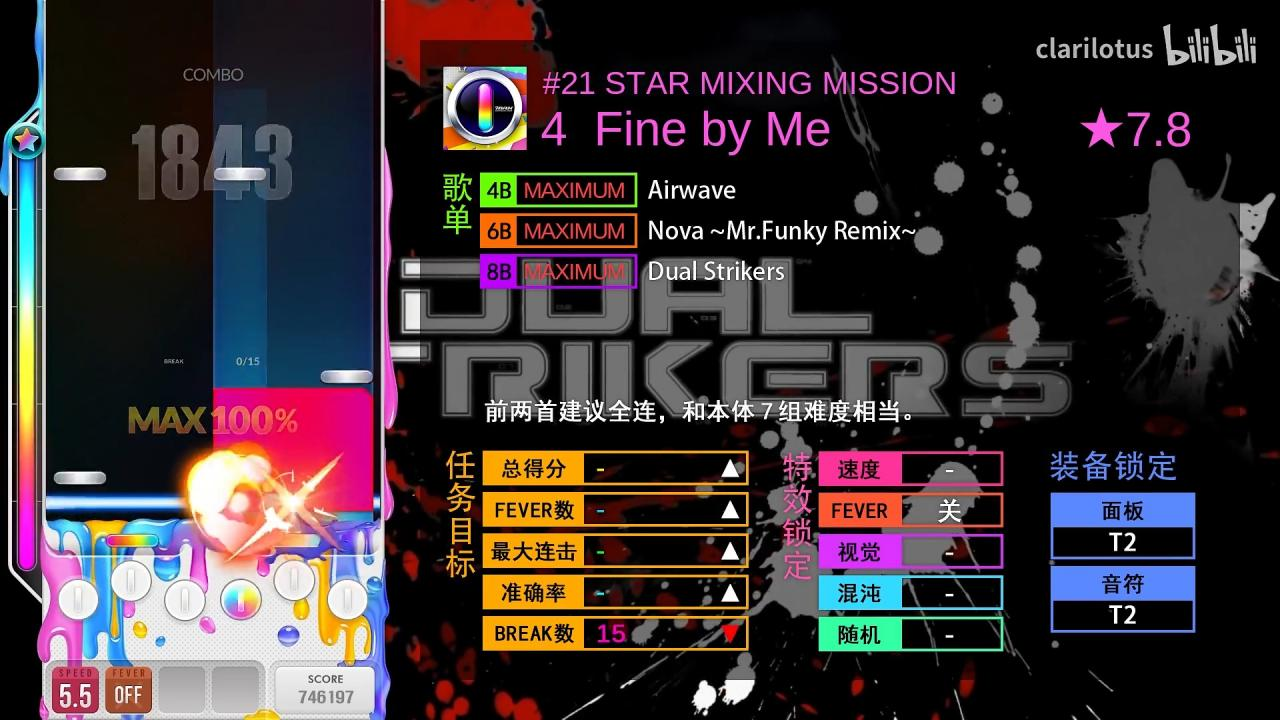note: (214, 167, 266, 182), (54, 471, 106, 485), (320, 370, 372, 384), (54, 168, 106, 181)
xend: (213, 387, 374, 403)
